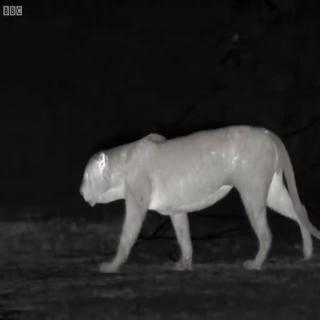Leopard: (72, 128, 320, 298)
